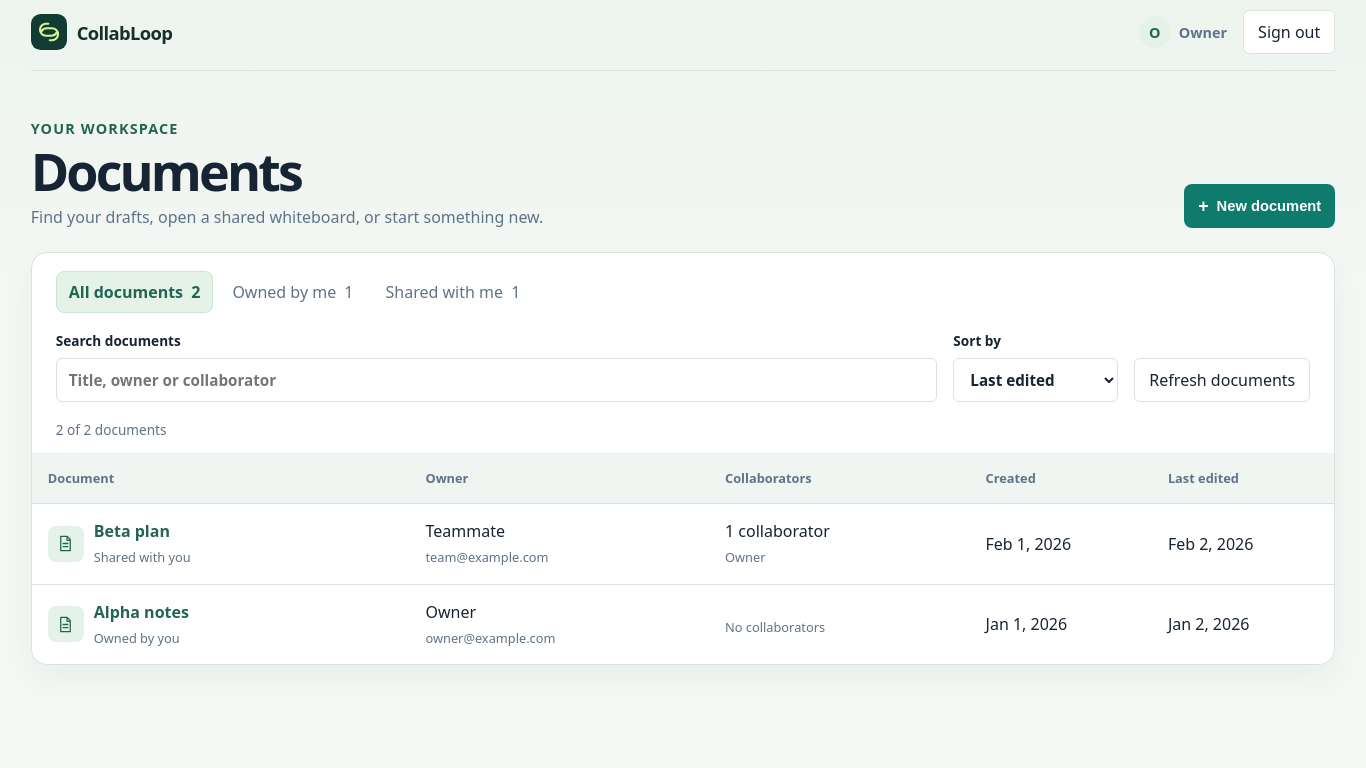
Test: owner/editor can rename Beta plan and see the saved name in the dashboard
The image size is (1366, 768).
Click the button "Beta plan". click: x=132, y=531
box: [94,520,170,542]
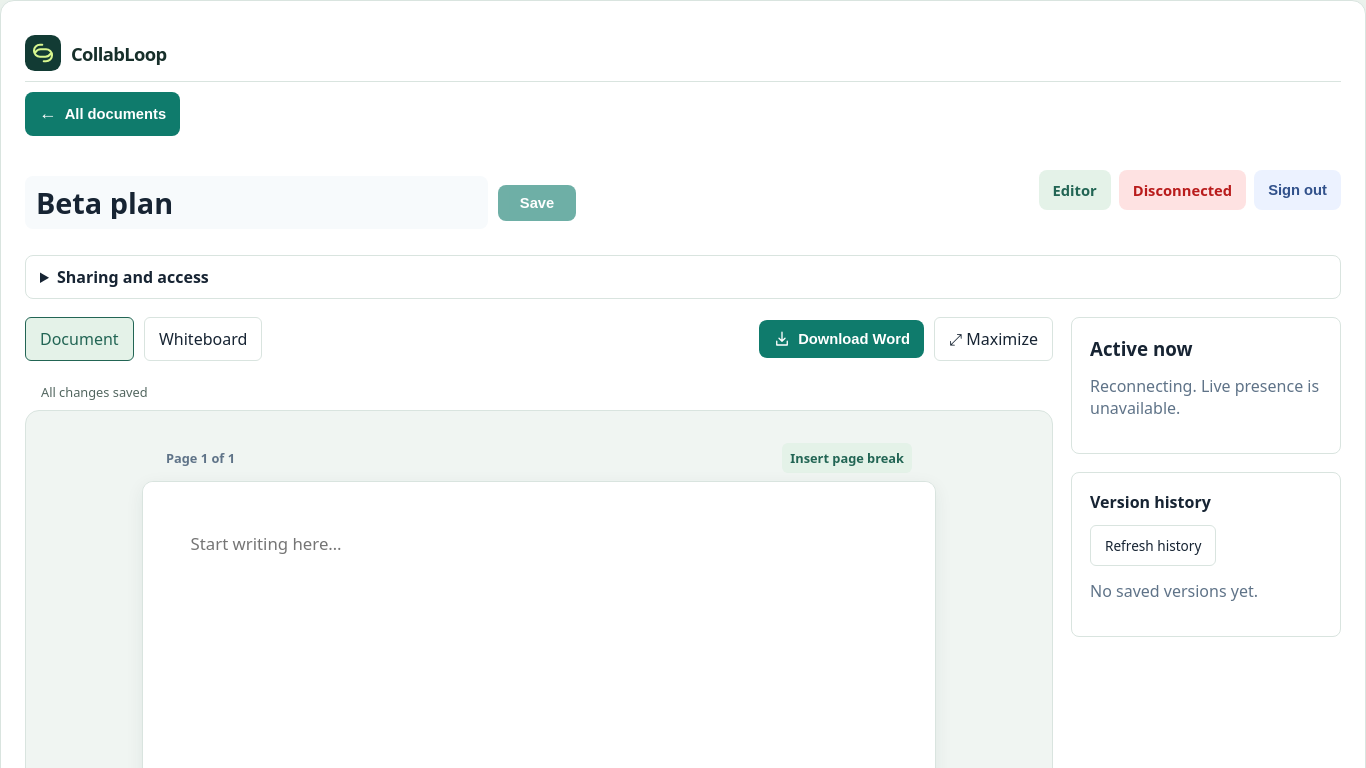
Replace the text in the field named "Document title" with "  Renamed notes  ". click: x=256, y=203
box: [25,176,488,229]
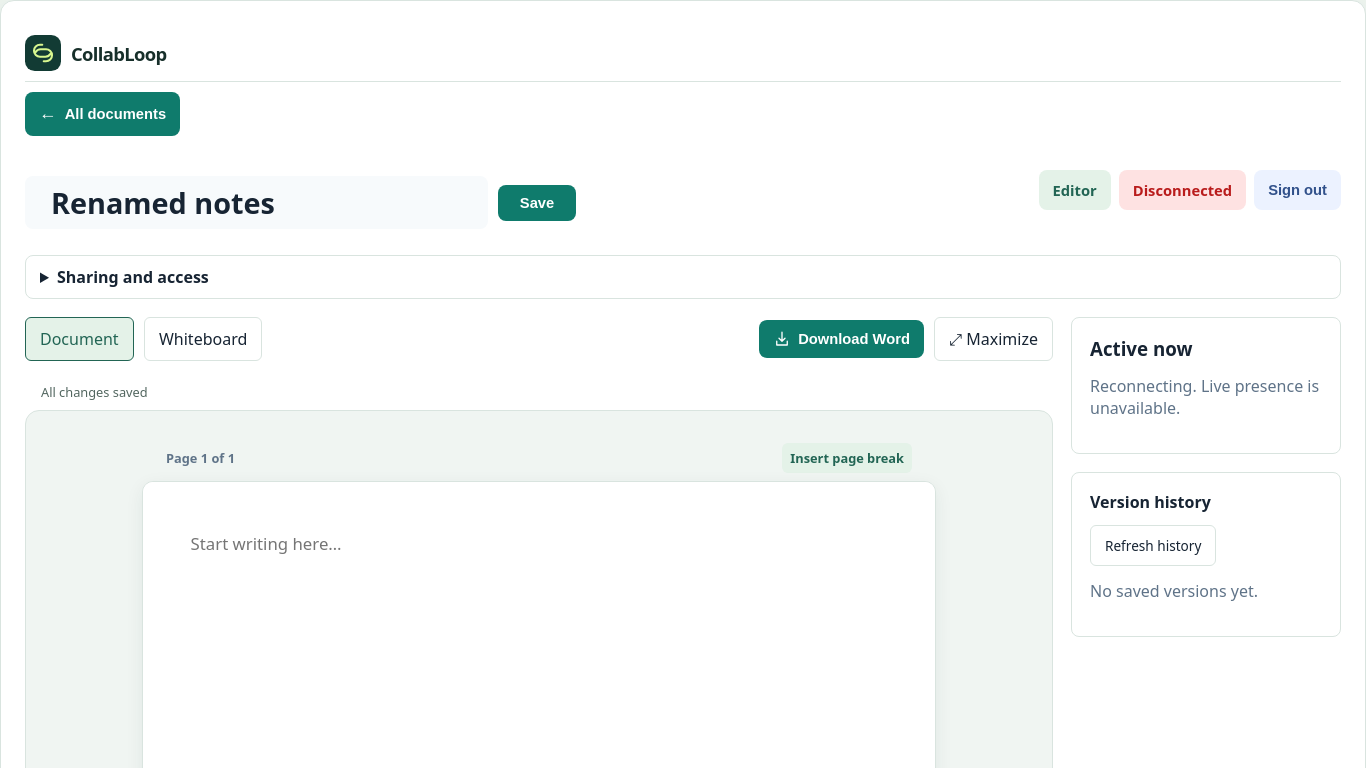
Click the button "Save". click: x=537, y=202
box: [498,184,576,220]
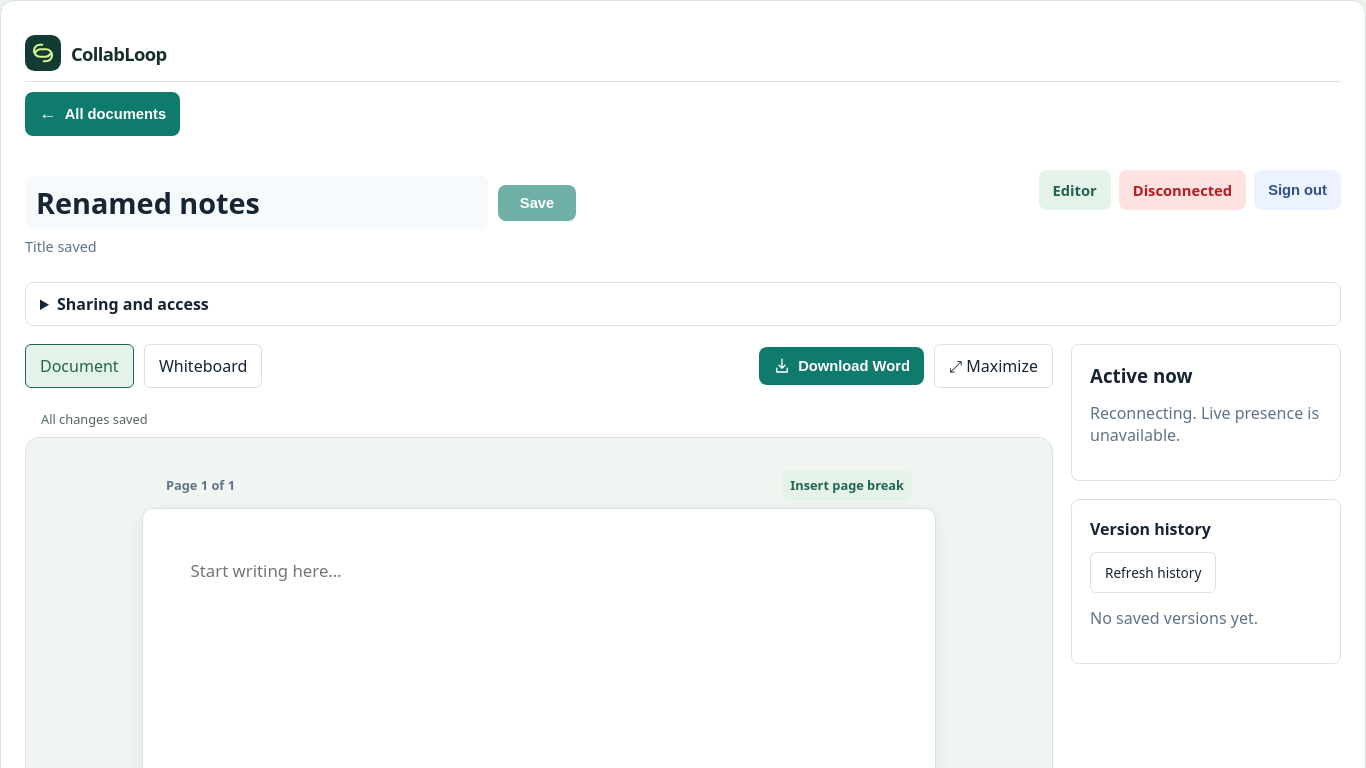
Now the text "Title saved" is shown, box [25,237,97,256]
Click the button "← All documents". click: x=103, y=114
box: [25,92,180,136]
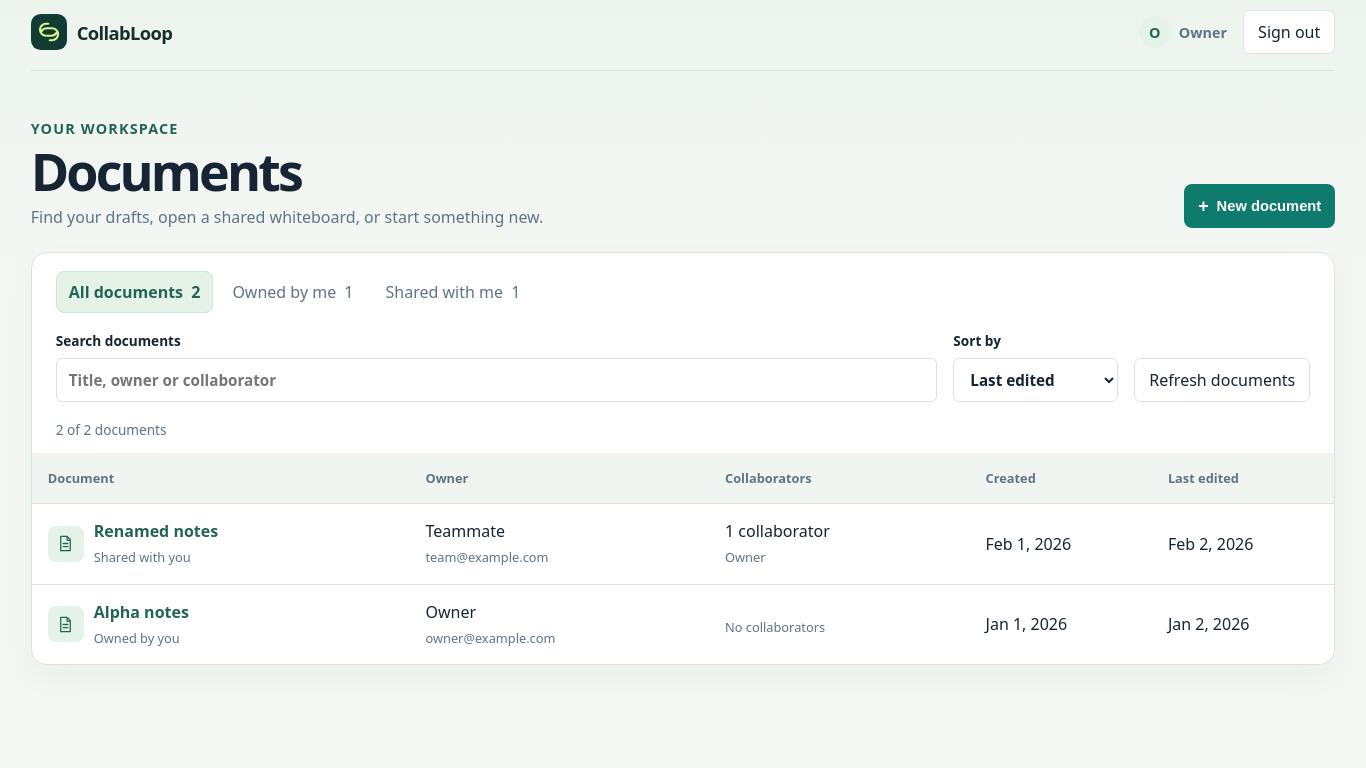
Now the button "Renamed notes" is shown, box [94,520,218,542]
